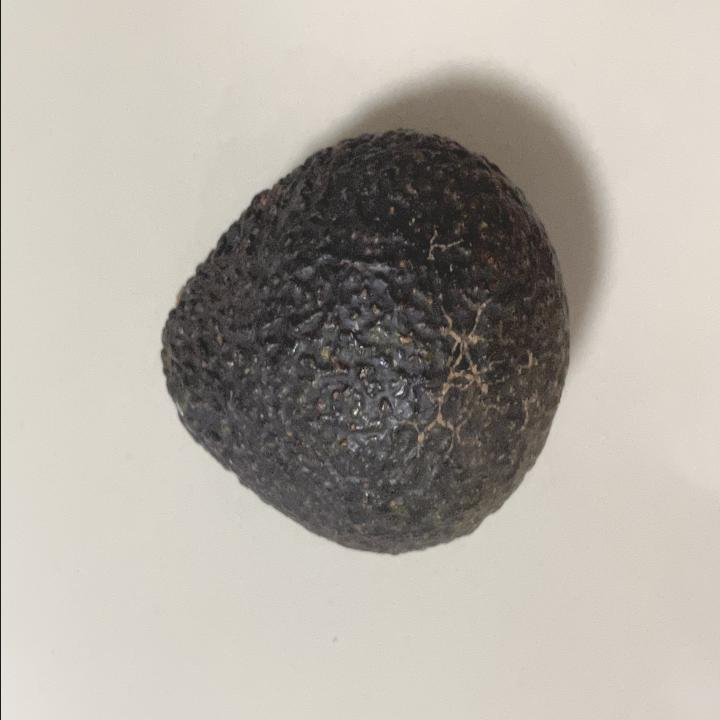Level2: (153, 119, 572, 561)
